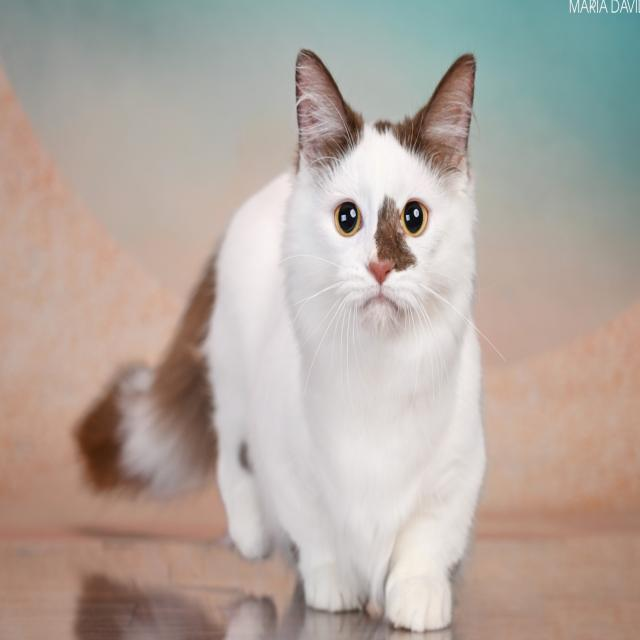Munchkin: (65, 43, 492, 639)
